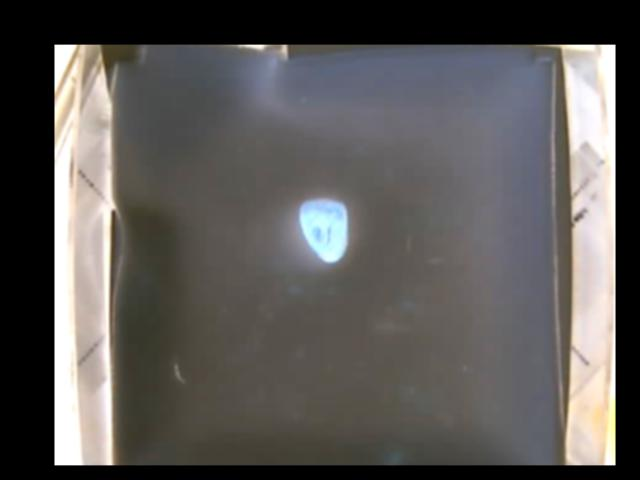Pebble: (300, 199, 346, 262)
